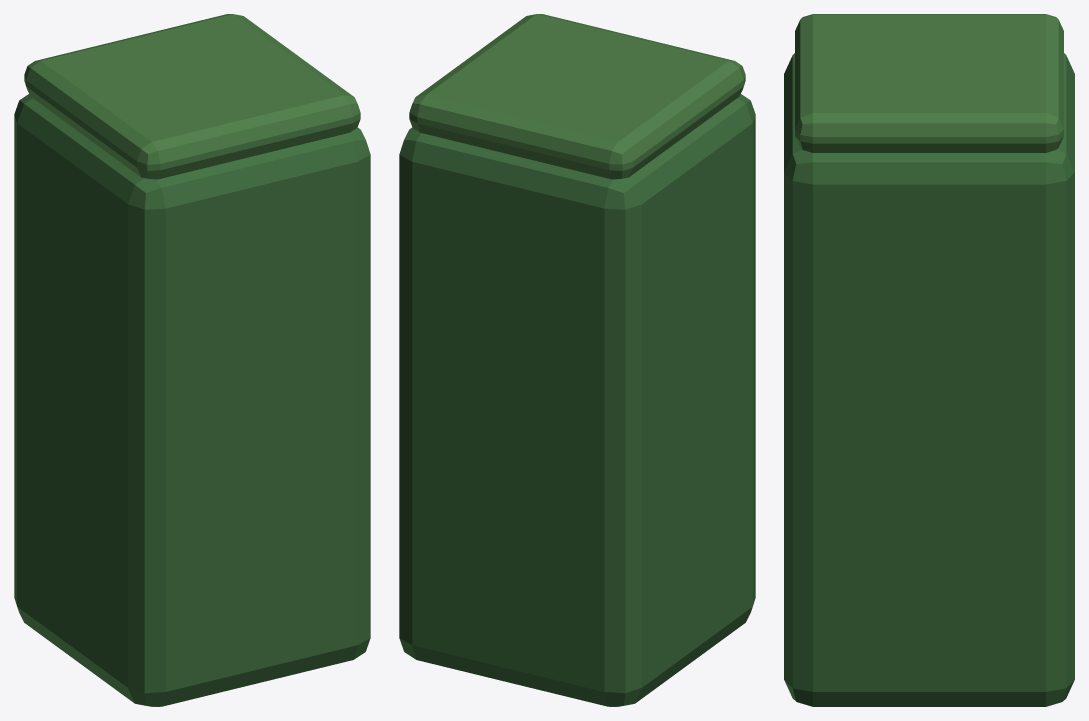
File: HedgeCorner.glb
3 views of the same model, side by side, from view 1: azimuth 30°, elevation 25°; view 2: azimuth 150°, elevation 25°; view 3: azimuth 270°, elevation 25° (orthographic). The views are drawn at different scales.
Visible parts, largest first — view 1: HedgeCorner; view 2: HedgeCorner; view 3: HedgeCorner.
Part boxes in pixels (x1,y1,x2,y2): HedgeCorner: (14,14,370,706); HedgeCorner: (399,14,755,706); HedgeCorner: (784,14,1074,706).
Size of the model in its own units: 0.8 by 1.8 by 0.8.
